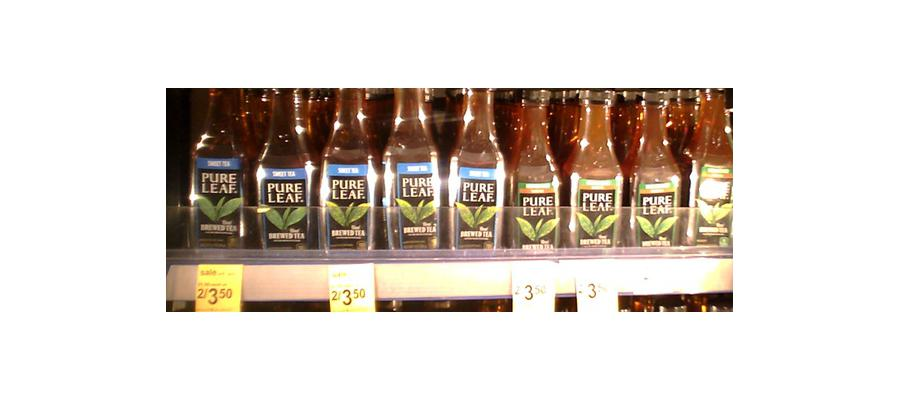bottle: (249, 83, 315, 250), (316, 83, 380, 254), (444, 83, 504, 253), (381, 85, 442, 250), (565, 84, 623, 253), (504, 88, 561, 255), (187, 87, 245, 248), (630, 88, 680, 249), (688, 84, 732, 242)
